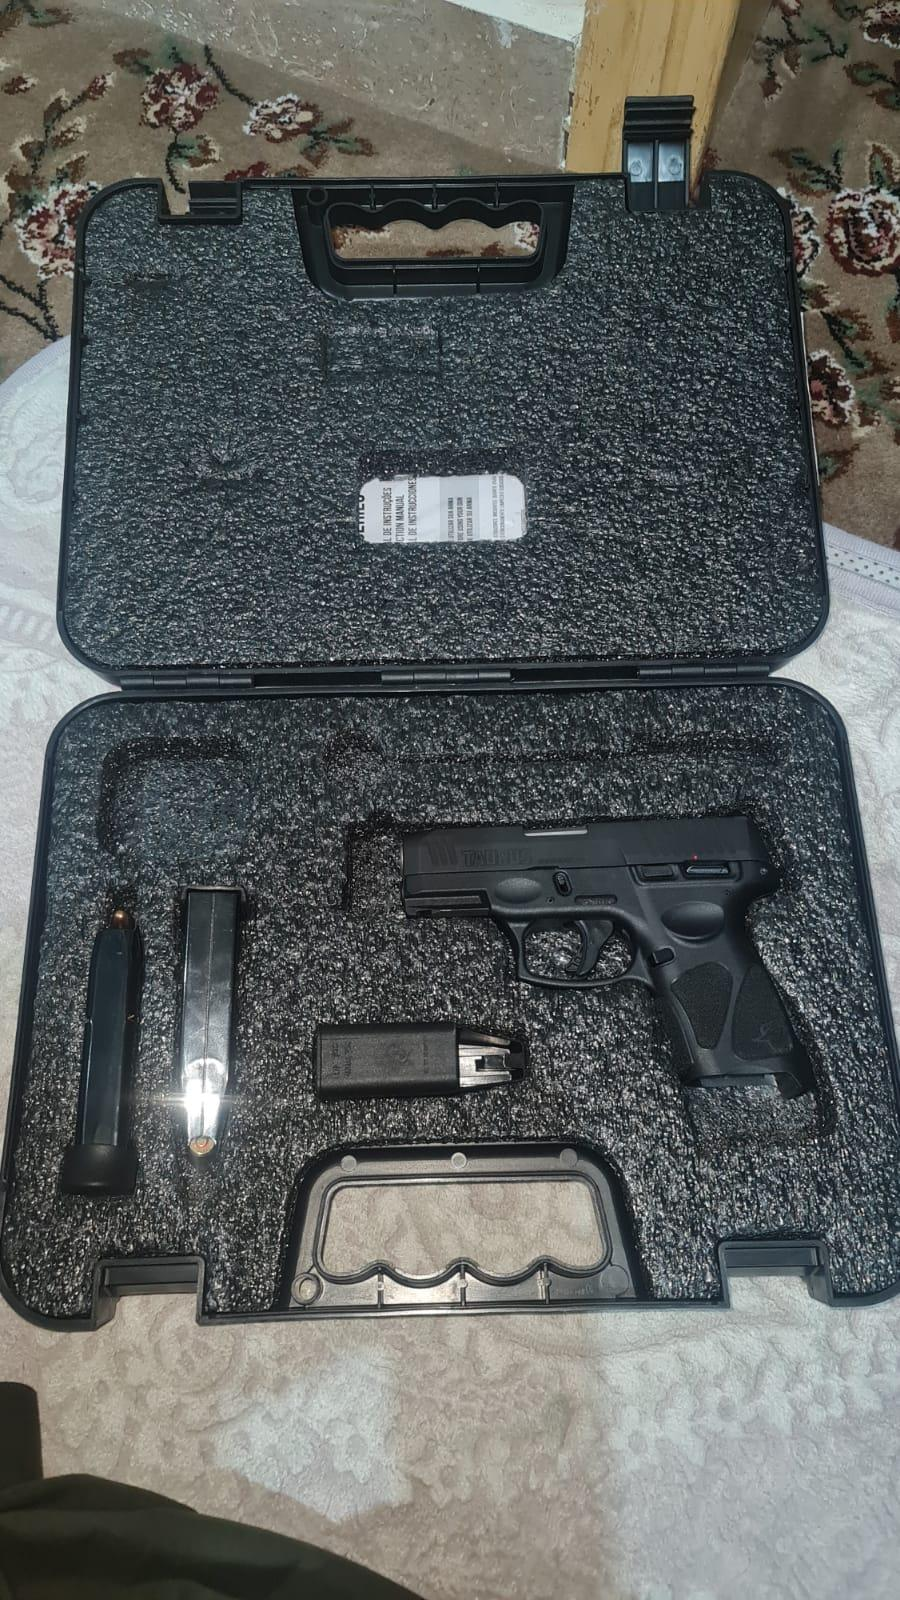weapon: (395, 797, 814, 1088)
